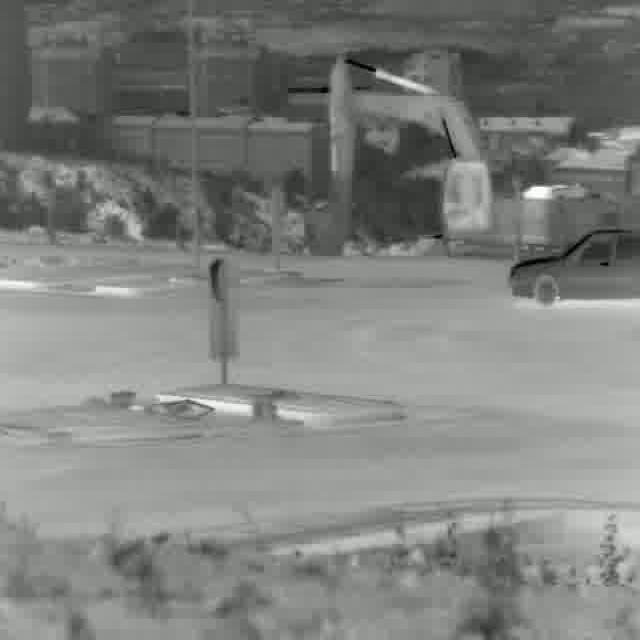Car: (509, 230, 640, 310)
